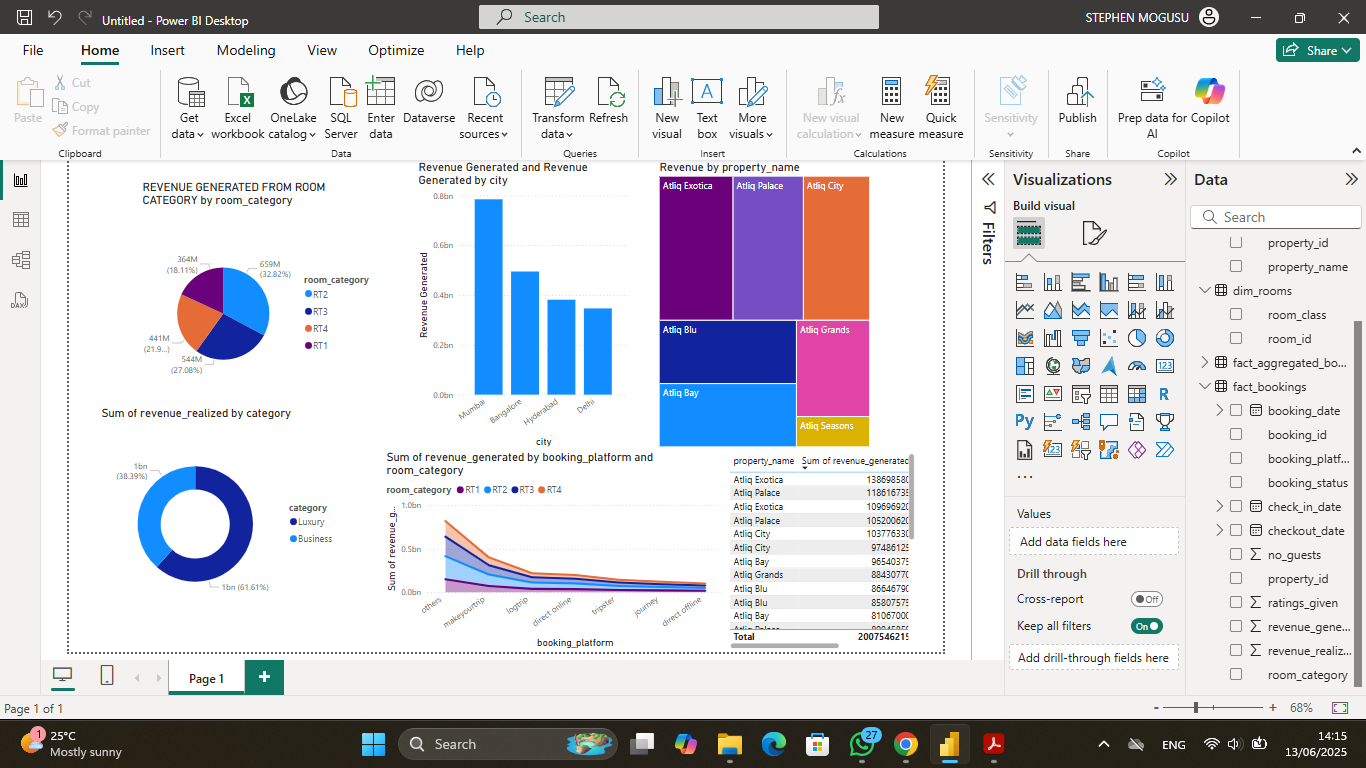

This screenshot's page, from the dashboard's own definition file:
{"tool":"powerbi","page":{"name":"Page 1","canvas":[1280,720],"ordinal":0},"visuals":[{"type":"pieChart","fields":{"Y":["Sum(fact_bookings.revenue_generated)"],"Category":["fact_bookings.room_category"]},"box":[102.8,29.8,357.6,353.2],"z":0},{"type":"lineStackedColumnComboChart","fields":{"Category":["dim_hotels.city"],"Y":["Sum(fact_bookings.revenue_generated)","Sum(fact_bookings.revenue_generated)"]},"box":[506.3,0,316.1,424.4],"z":1000},{"type":"treemap","fields":{"Group":["dim_hotels.property_name"],"Values":["Sum(fact_bookings.revenue_generated)"]},"box":[859,0,317.6,424.4],"z":2000},{"type":"donutChart","fields":{"Y":["Sum(fact_bookings.revenue_realized)"],"Category":["dim_hotels.category"]},"box":[42.4,360,358.5,326.3],"z":3000},{"type":"stackedAreaChart","fields":{"Category":["fact_bookings.booking_platform"],"Y":["Sum(fact_bookings.revenue_generated)"],"Series":["fact_bookings.room_category"]},"box":[459.5,424.4,502,295.6],"z":3001},{"type":"tableEx","fields":{"Values":["dim_hotels.property_name","Sum(fact_bookings.revenue_generated)","dim_hotels.property_id","fact_bookings.property_id"]},"box":[961.5,424.4,281,295.6],"z":3002}]}

Visuals, with their boxes on the page's 1280x720 design canvas (x1, y1, x2, y2). These are canvas units, not pixel positions in the 1366x768 screenshot, which may show the page scaled, cropped or inside an application window:
pieChart - Sum(fact_bookings.revenue_generated) x fact_bookings.room_category: 103/30/460/383
lineStackedColumnComboChart - dim_hotels.city x Sum(fact_bookings.revenue_generated): 506/0/822/424
treemap - dim_hotels.property_name x Sum(fact_bookings.revenue_generated): 859/0/1177/424
donutChart - Sum(fact_bookings.revenue_realized) x dim_hotels.category: 42/360/401/686
stackedAreaChart - fact_bookings.booking_platform x Sum(fact_bookings.revenue_generated): 460/424/962/720
tableEx - dim_hotels.property_name x Sum(fact_bookings.revenue_generated): 962/424/1242/720
